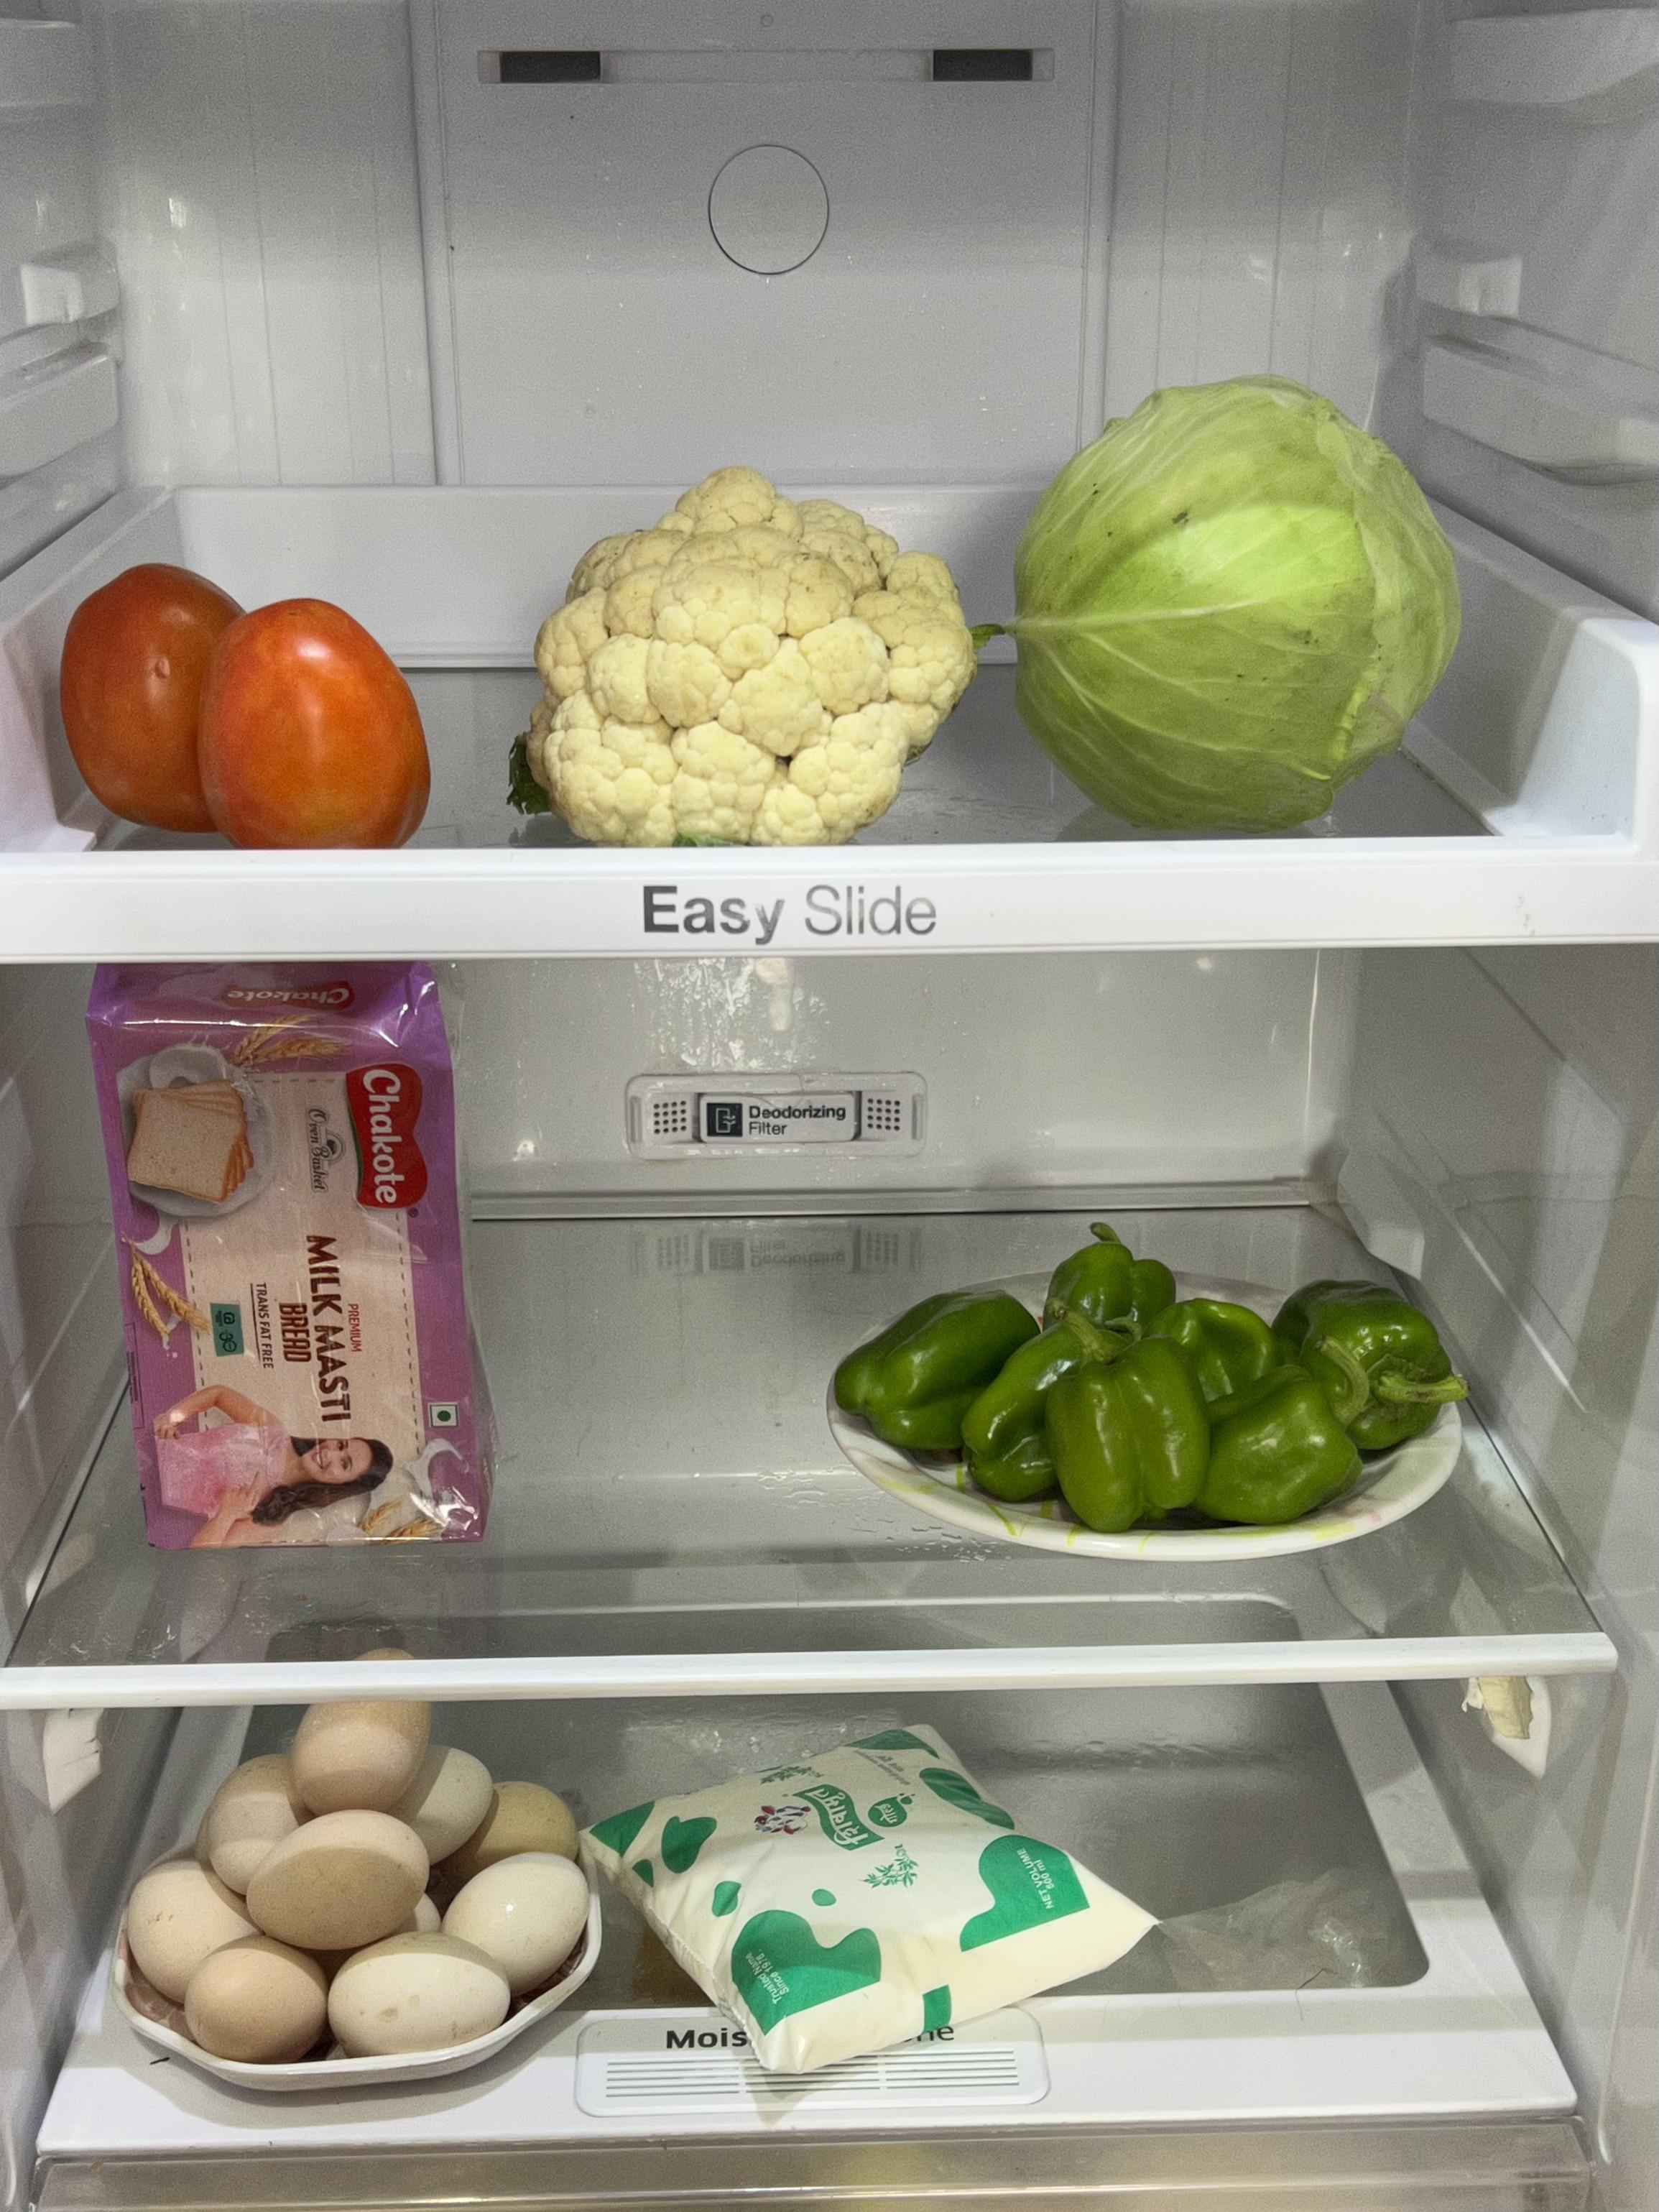bread: (77, 955, 528, 1544)
cabbage: (1014, 382, 1457, 826)
capsicum: (826, 1225, 1467, 1534)
cauliflower: (526, 458, 981, 842)
egg: (110, 1691, 599, 2073)
milk: (601, 1717, 1150, 2069)
tomato: (56, 553, 450, 856)
